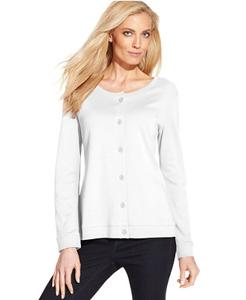C_cardigan sweater: (52, 70, 192, 255)
